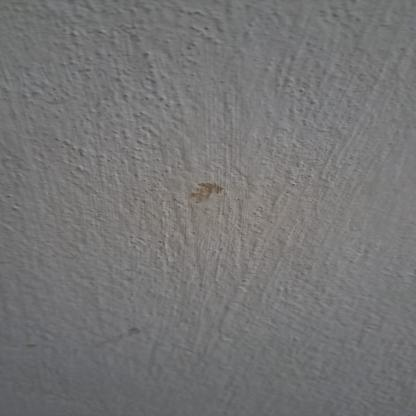spot: (186, 172, 231, 205)
